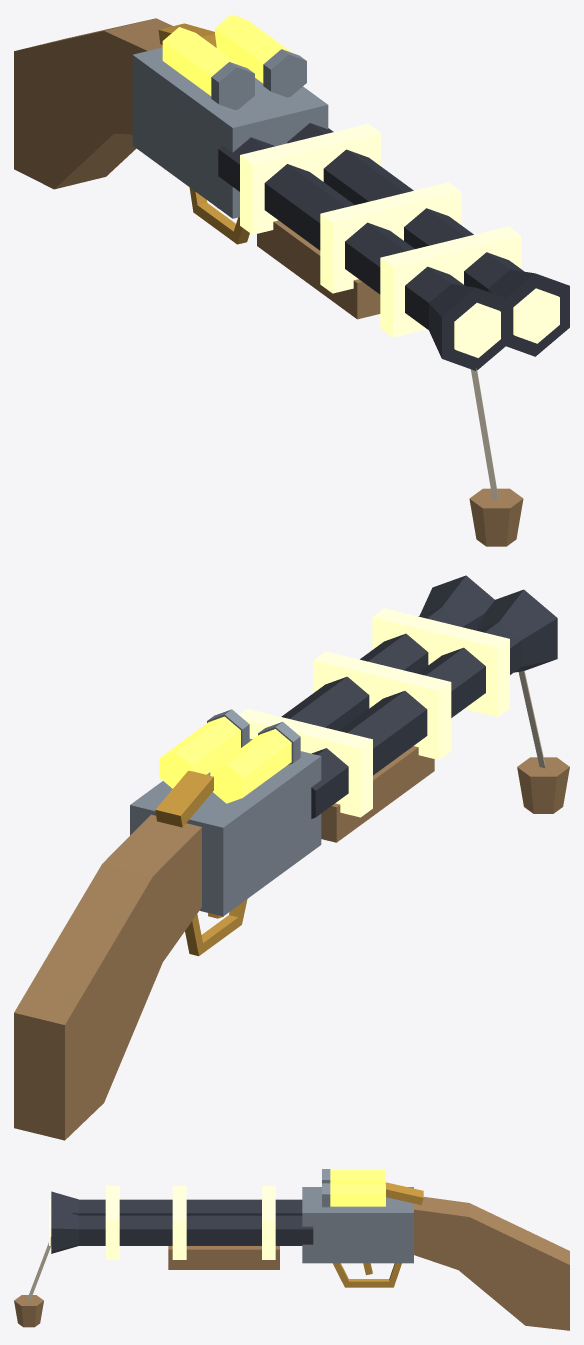
Rendered from Wpn_Blaster_Scattergun.fbx.
3 views of the same model, one above another, from view 1: azimuth 30°, elevation 25°; view 2: azimuth 150°, elevation 25°; view 3: azimuth 270°, elevation 25° (orthographic). The views are drawn at different scales.
Parts seen in each view (by area): view 1: Wpn_Blaster_Scattergun_Body, Wpn_Blaster_Scattergun_Cork; view 2: Wpn_Blaster_Scattergun_Body, Wpn_Blaster_Scattergun_Cork; view 3: Wpn_Blaster_Scattergun_Body, Wpn_Blaster_Scattergun_Cork.
Boxes of the visible parts, bbox=[...] form: Wpn_Blaster_Scattergun_Body: bbox=[14, 14, 569, 370]; Wpn_Blaster_Scattergun_Cork: bbox=[469, 368, 523, 546]; Wpn_Blaster_Scattergun_Body: bbox=[14, 575, 557, 1140]; Wpn_Blaster_Scattergun_Cork: bbox=[517, 670, 569, 813]; Wpn_Blaster_Scattergun_Body: bbox=[49, 1169, 569, 1330]; Wpn_Blaster_Scattergun_Cork: bbox=[14, 1236, 51, 1327].
Bounding box in the file's own units: 0.148 × 0.307 × 0.997.
